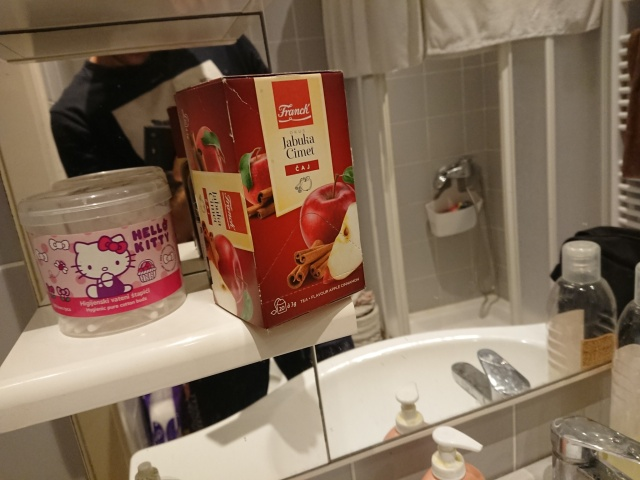Franck Apple Cinnamon Tea 60g: (170, 66, 369, 333)
